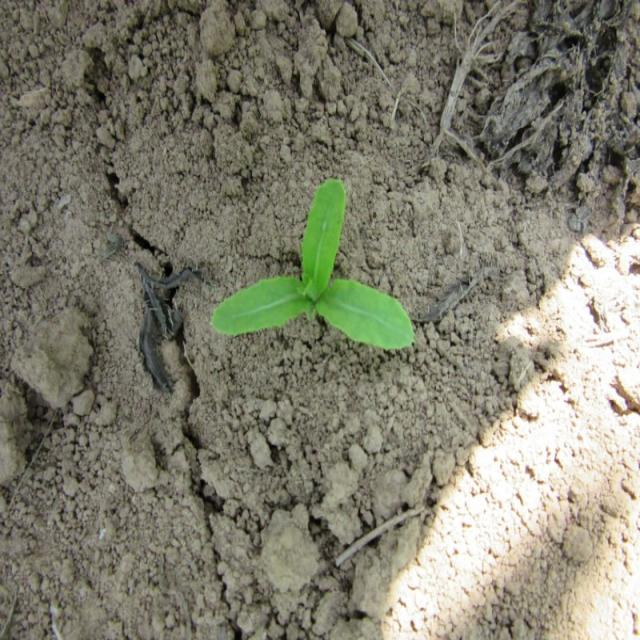field_thistle: (188, 167, 421, 370)
